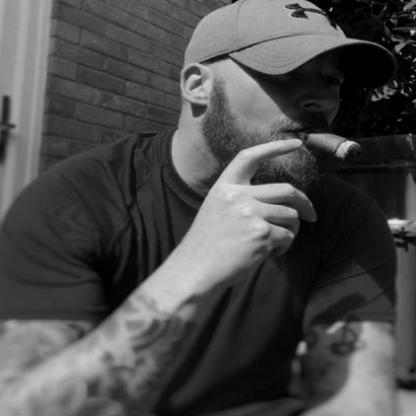cigarette: (308, 128, 366, 164)
person: (0, 0, 400, 415)
